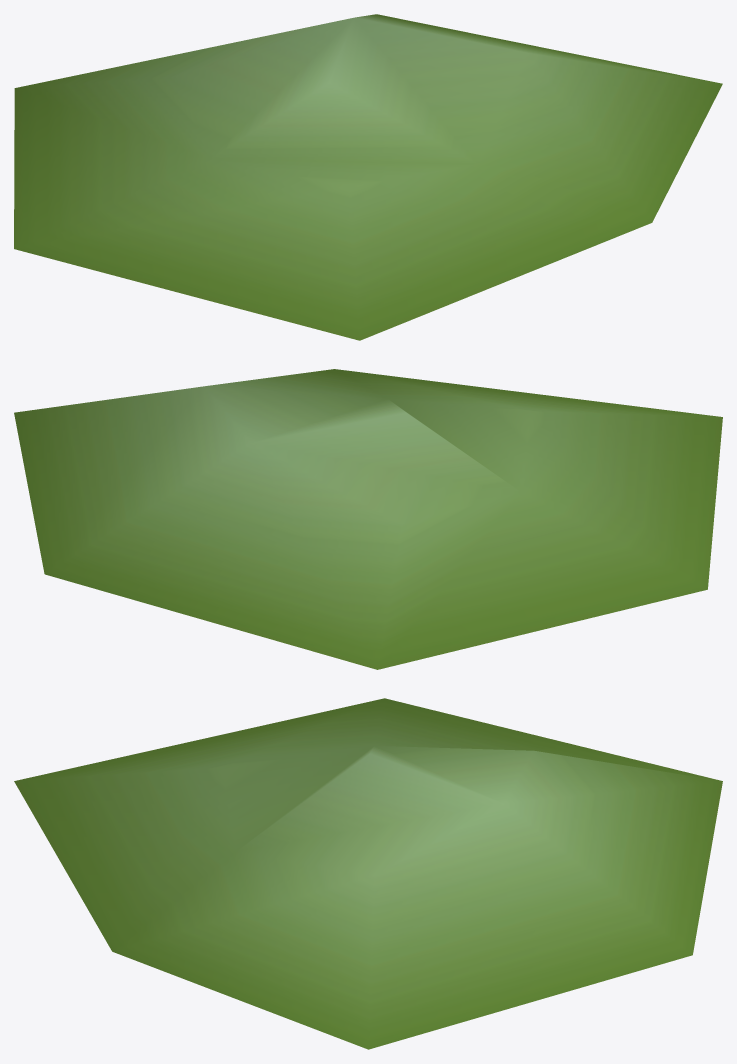
The model's file is kulle.glb.
The picture shows the model from 3 angles, top to bottom: view 1: azimuth 30°, elevation 25°; view 2: azimuth 150°, elevation 25°; view 3: azimuth 270°, elevation 25°; orthographic projection. The views are drawn at different scales.
Visible parts, largest first — view 1: Hill001; view 2: Hill001; view 3: Hill001.
Boxes of the visible parts, x1=… form: Hill001: x1=14, y1=14, x2=722, y2=340; Hill001: x1=14, y1=369, x2=722, y2=669; Hill001: x1=14, y1=698, x2=722, y2=1049.
Bounding box in the file's own units: 708 × 92.78 × 603.
1 material, 1 textured.
